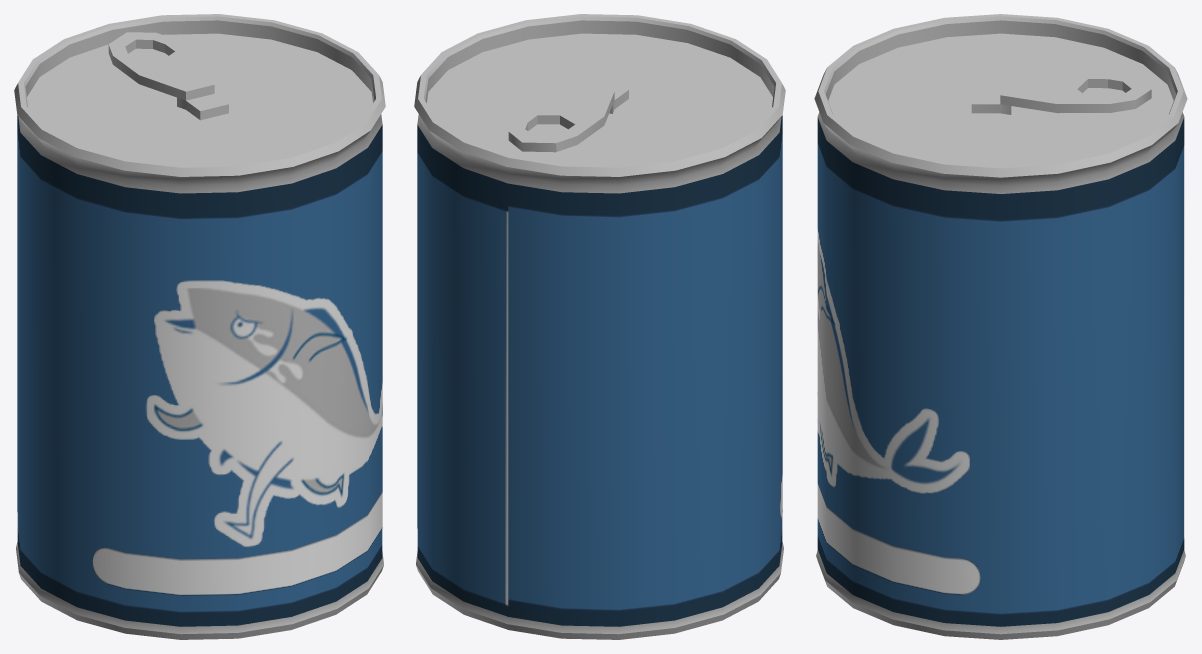
File: Can.fbx
The picture shows the model from 3 angles, left to right: view 1: azimuth 30°, elevation 25°; view 2: azimuth 150°, elevation 25°; view 3: azimuth 270°, elevation 25°; orthographic projection.
Visible parts, largest first — view 1: pCube1; view 2: pCube1; view 3: pCube1.
Part boxes in pixels (bbox=[...]): pCube1: bbox=[14, 14, 385, 639]; pCube1: bbox=[414, 14, 785, 639]; pCube1: bbox=[814, 14, 1187, 639].
Bounding box in the file's own units: 2 × 2.81 × 2.
